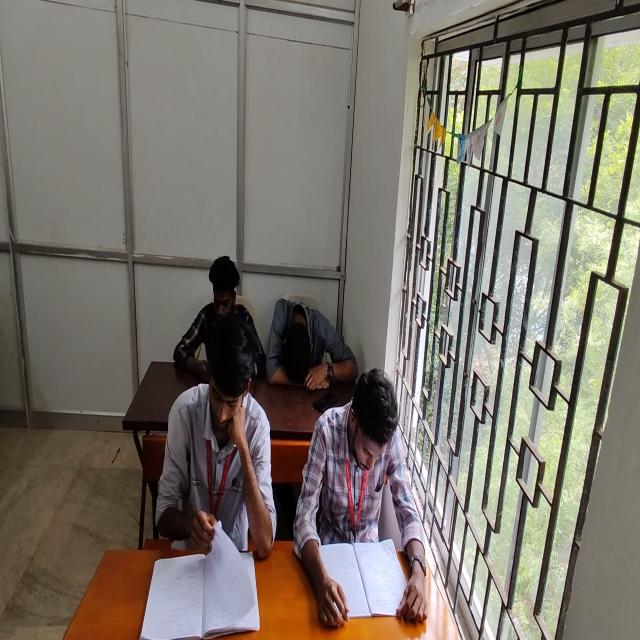reading: (291, 366, 412, 630), (155, 310, 277, 564)
sleeping: (265, 298, 354, 391)
using_mobile: (173, 255, 265, 382)
